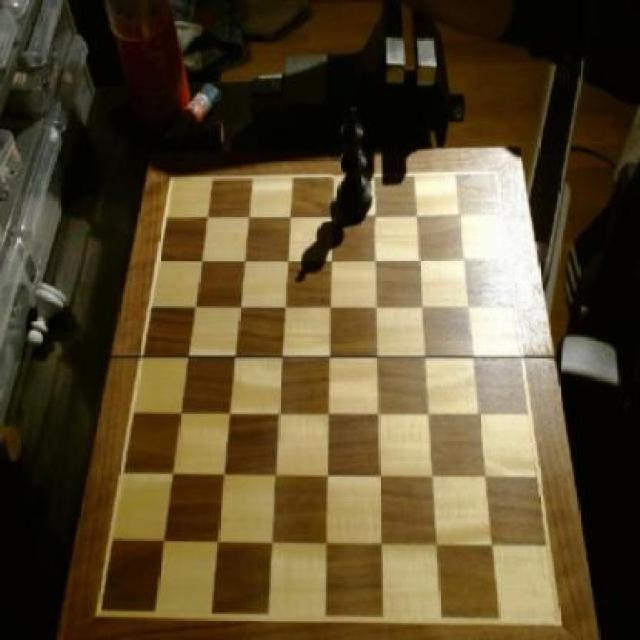black-bishop: (331, 110, 376, 226)
